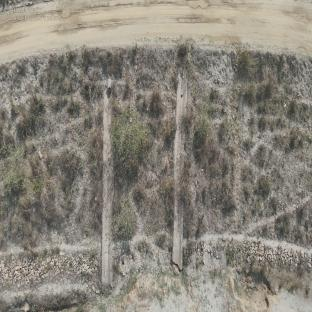rock_toe: (184, 244, 310, 282), (1, 248, 98, 292)
slope_drain: (172, 66, 188, 272), (101, 86, 114, 284)
vegetation: (116, 108, 157, 181), (113, 200, 141, 243)
